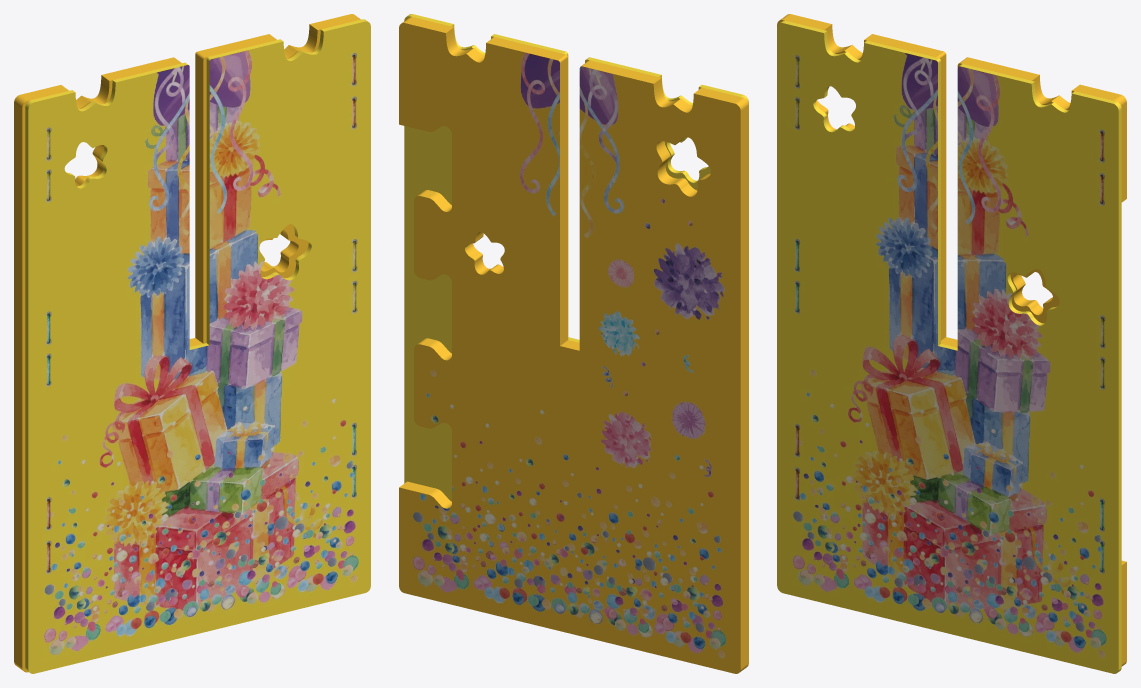
Rendered from narrow-left-bottom.glb.
The picture shows the model from 3 angles, left to right: view 1: azimuth 30°, elevation 25°; view 2: azimuth 150°, elevation 25°; view 3: azimuth 330°, elevation 25°; orthographic projection.
Parts seen in each view (by area): view 1: narrow-left-bottom; view 2: narrow-left-bottom; view 3: narrow-left-bottom.
Boxes of the visible parts, bbox=[...] form: narrow-left-bottom: bbox=[14, 14, 370, 673]; narrow-left-bottom: bbox=[399, 14, 748, 673]; narrow-left-bottom: bbox=[777, 14, 1126, 673].
Bounding box in the file's own units: 585 × 925 × 33.
4 materials, 2 textured.
